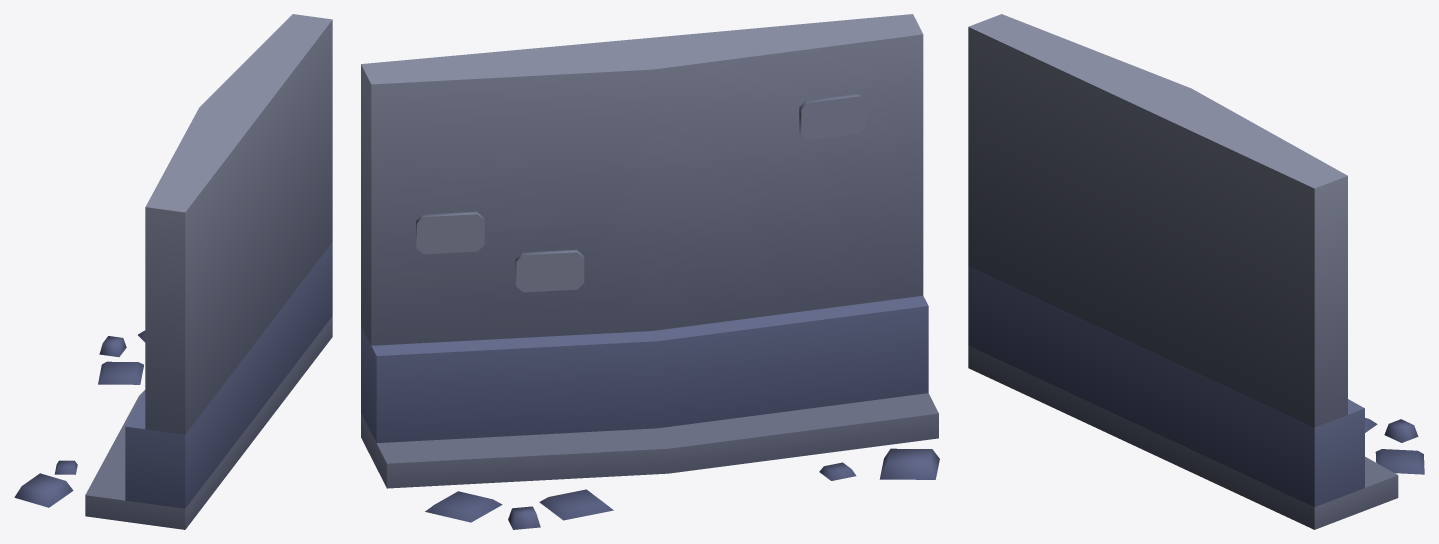
The model's file is template-wall.009_lev1.glb.
The picture shows the model from 3 angles, left to right: view 1: azimuth 30°, elevation 25°; view 2: azimuth 150°, elevation 25°; view 3: azimuth 270°, elevation 25°; orthographic projection. The views are drawn at different scales.
Parts seen in each view (by area): view 1: template-wall.009_lev1; view 2: template-wall.009_lev1; view 3: template-wall.009_lev1.
Part boxes in pixels (x1,y1,x2,y2): template-wall.009_lev1: [14, 14, 332, 529]; template-wall.009_lev1: [361, 14, 939, 529]; template-wall.009_lev1: [968, 14, 1424, 529].
Bounding box in the file's own units: 7.05 × 5.3 × 6.42.
Materials: 1 (1 with a texture image).
